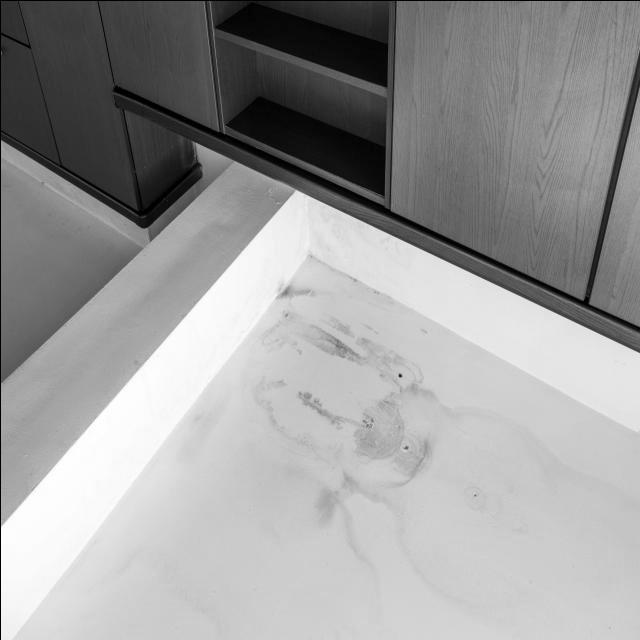pin holes: (465, 488, 488, 508), (391, 368, 409, 387), (397, 443, 419, 454)
stain marks: (175, 377, 237, 471), (400, 514, 461, 604), (299, 314, 405, 364), (343, 461, 418, 507), (359, 401, 406, 460), (295, 386, 355, 430), (255, 374, 284, 431), (258, 323, 296, 356), (266, 279, 326, 299), (410, 380, 450, 410), (318, 486, 340, 526)
